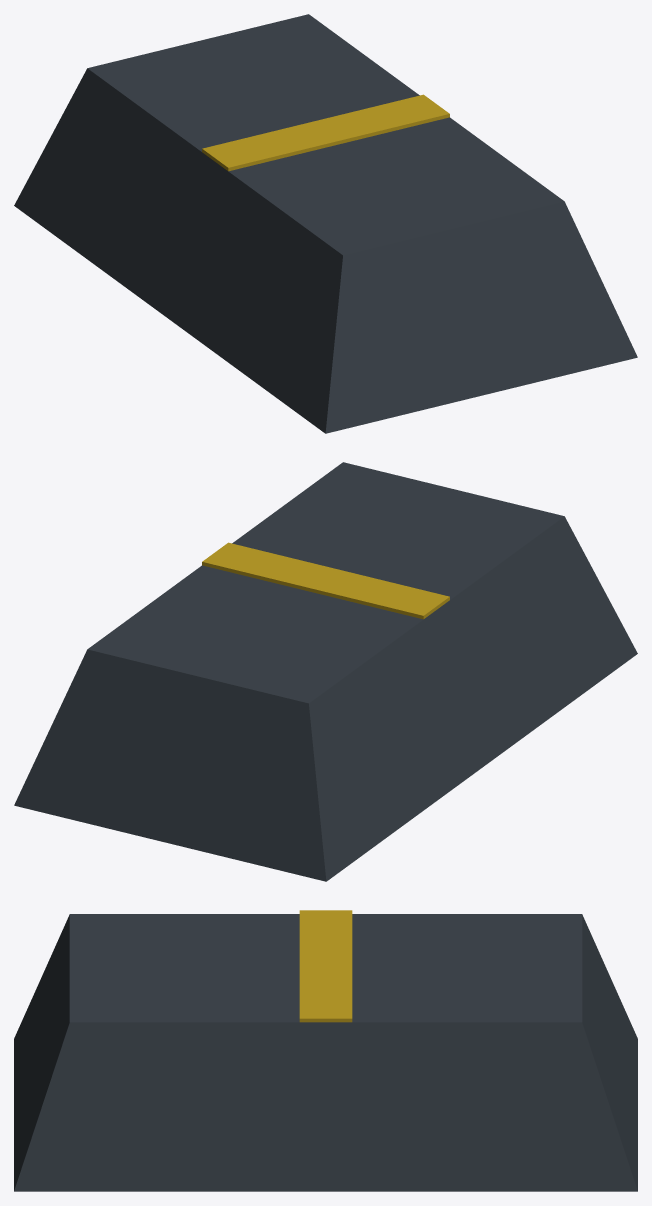
The model's file is b12_seal.obj.
3 renders of one model, top to bottom at view 1: azimuth 30°, elevation 25°; view 2: azimuth 150°, elevation 25°; view 3: azimuth 270°, elevation 25°, orthographic.
Visible parts, largest first — view 1: b12_seal; view 2: b12_seal; view 3: b12_seal.
Part boxes in pixels (x1=…): b12_seal: x1=14, y1=14, x2=637, y2=433; b12_seal: x1=14, y1=462, x2=637, y2=881; b12_seal: x1=14, y1=910, x2=637, y2=1191.
Size of the model in its own units: 1.1 by 0.5062 by 1.9.
